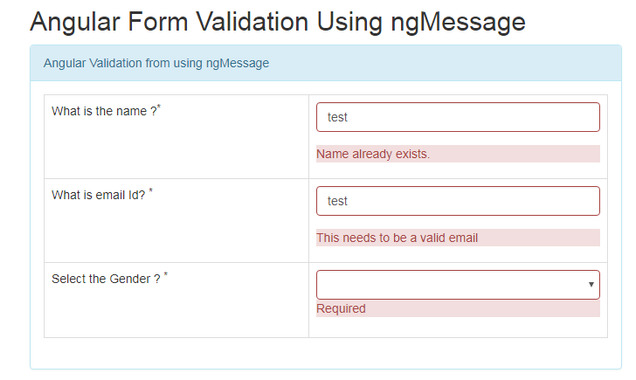error_field: (315, 102, 601, 134), (315, 185, 602, 216), (314, 269, 600, 300)
error_message: (317, 231, 480, 245), (317, 147, 430, 161), (316, 303, 367, 315)
